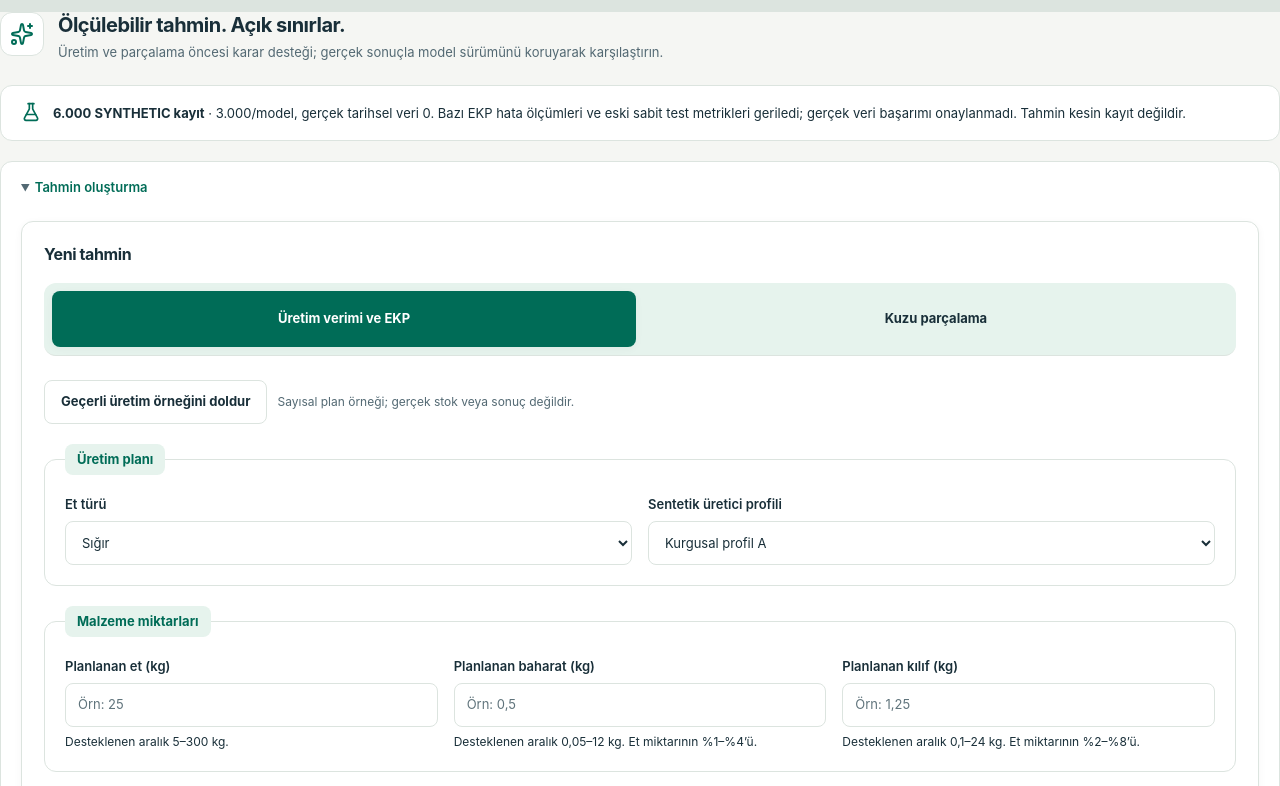
Test: uygun reçete yoksa gerçek kurulum sayfalarına yönlendirir; örnek UUID veya ürün ilişkisi uydurmaz
Expected: the field labelled "Planlanan et (kg)" is shown, [65,683,438,727]
Click the button "Kuzu parçalama" at point(936, 319), box [644,291,1228,347]
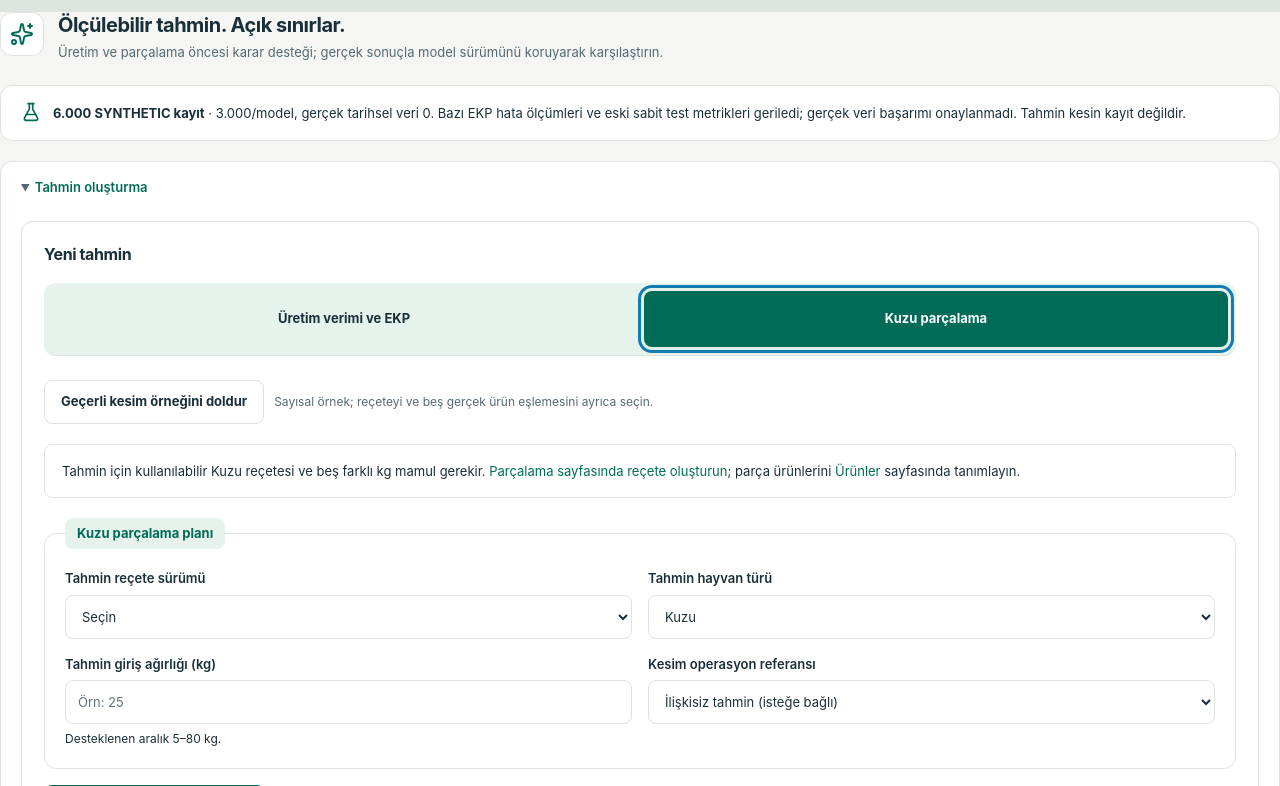
Click the button "Geçerli kesim örneğini doldur" at point(154, 402), box [44,380,264,424]
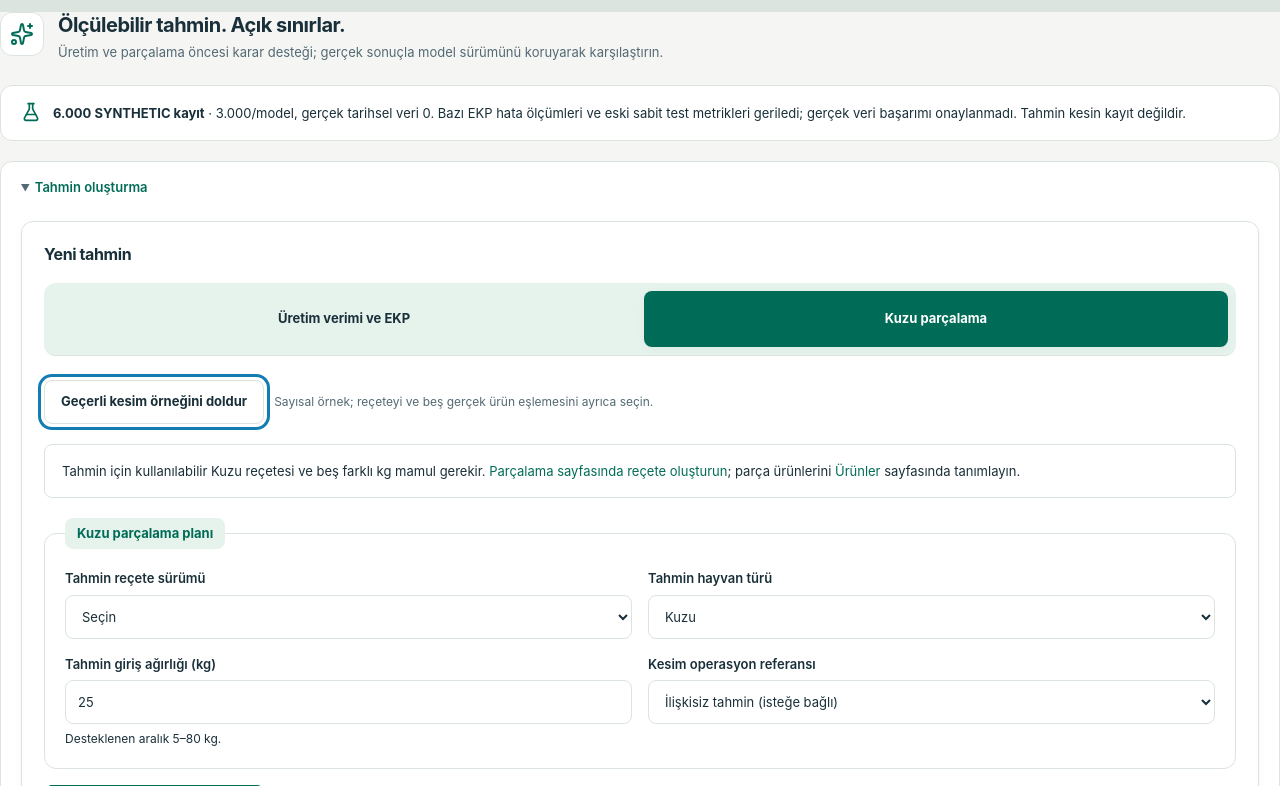
Expected: the dropdown labelled "Tahmin reçete sürümü" shows "Seçin", [65,595,632,639]
Expected: the text "Desteklenen aralık 5–80 kg." is shown, [65,732,221,746]
Expected: the field labelled "Tahmin giriş ağırlığı (kg)" holds "25", [65,680,632,724]
